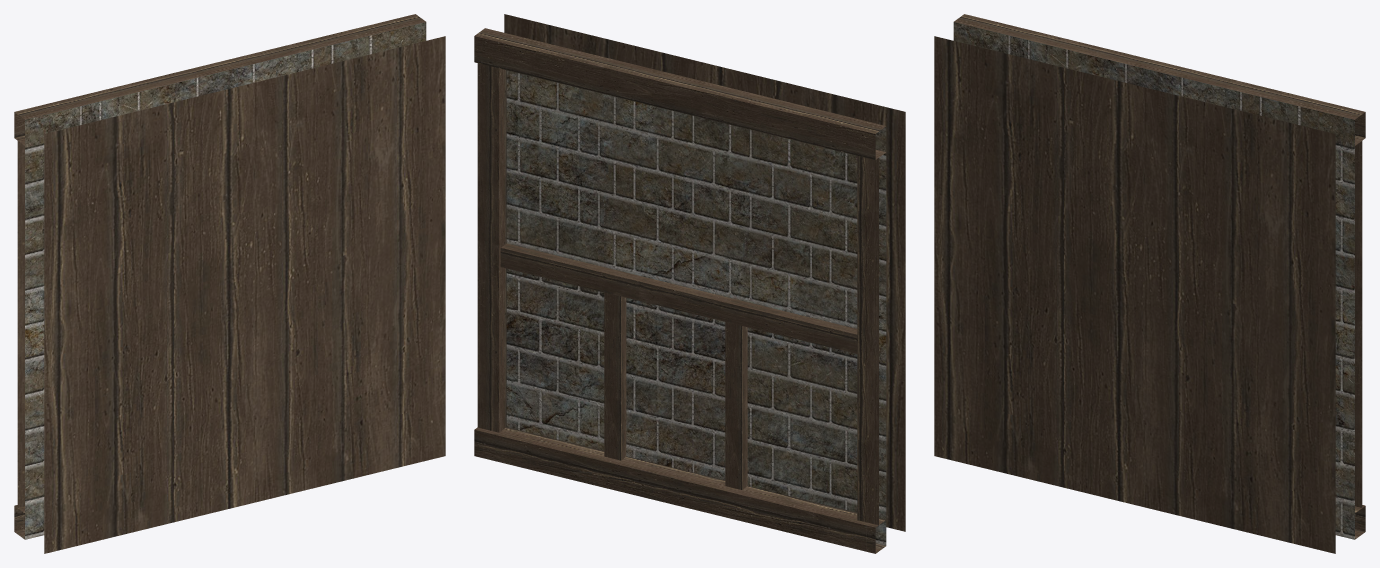
Rendered from ARC1010198.fbx.
3 renders of one model, left to right at view 1: azimuth 30°, elevation 25°; view 2: azimuth 150°, elevation 25°; view 3: azimuth 330°, elevation 25°, orthographic.
Parts seen in each view (by area): view 1: smARC1010198; view 2: smARC1010198; view 3: smARC1010198.
Part boxes in pixels (bbox=[...]): smARC1010198: bbox=[14, 14, 445, 553]; smARC1010198: bbox=[474, 14, 905, 553]; smARC1010198: bbox=[934, 14, 1365, 553].
Size of the model in its own units: 268 by 268 by 34.9.
Materials: 1 (1 with a texture image).
